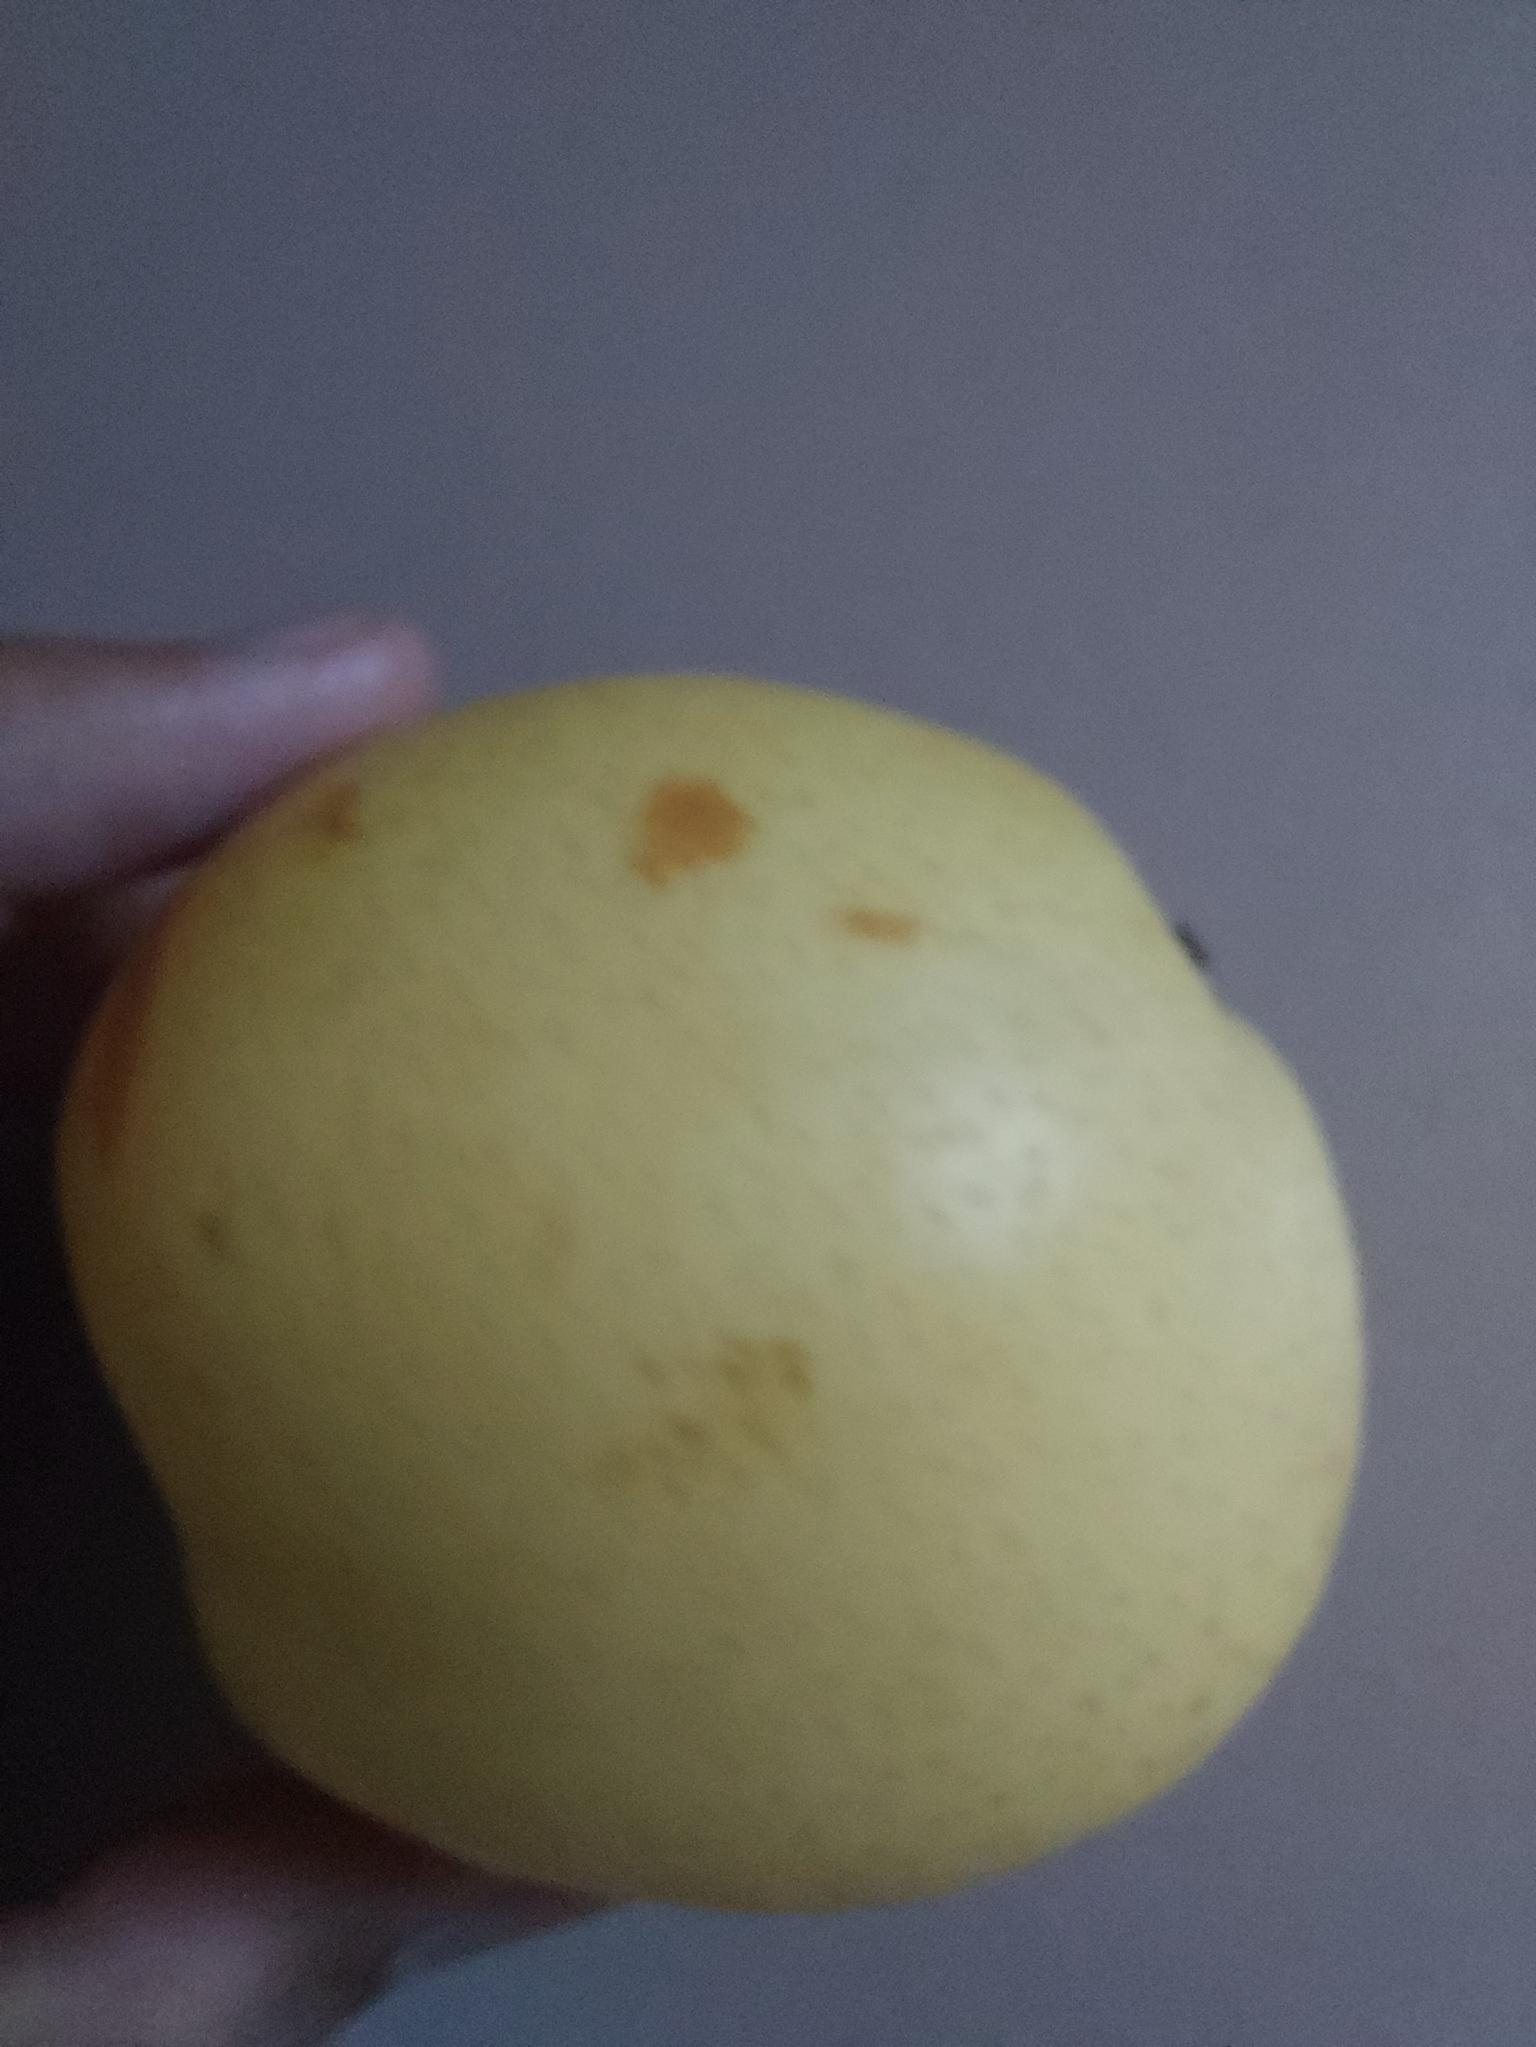Good Pear: (48, 669, 1375, 1923)
